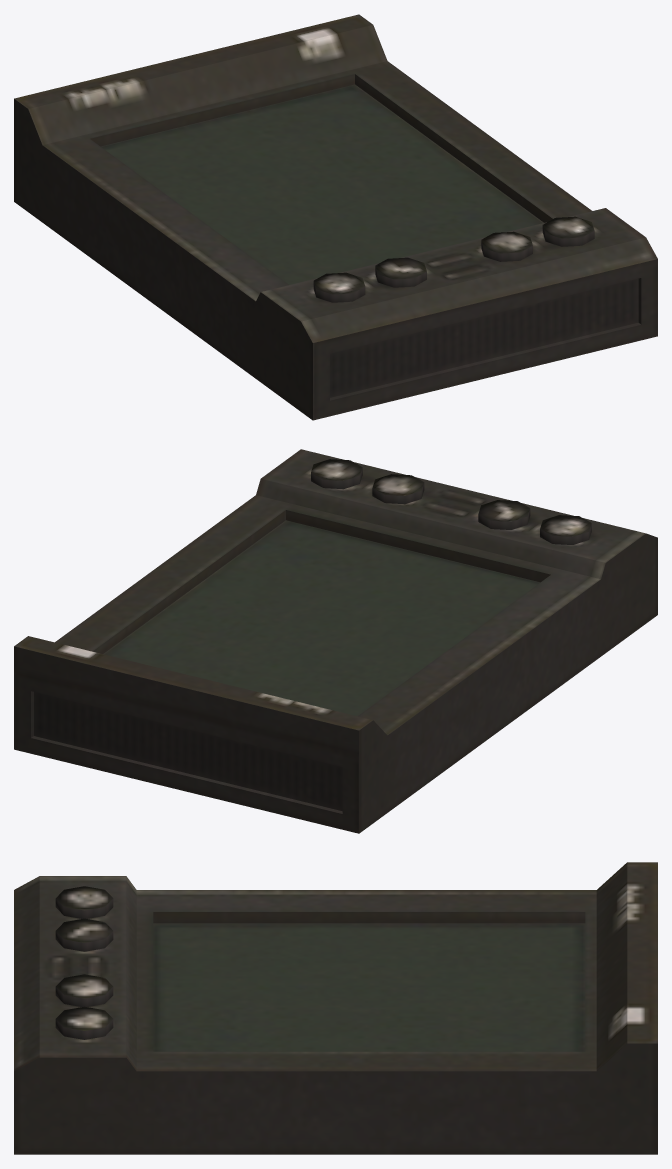
File: handheld_tablet_1.obj
The picture shows the model from 3 angles, top to bottom: view 1: azimuth 30°, elevation 25°; view 2: azimuth 150°, elevation 25°; view 3: azimuth 270°, elevation 25°; orthographic projection. The views are drawn at different scales.
Visible parts, largest first — view 1: handheld_tablet_1; view 2: handheld_tablet_1; view 3: handheld_tablet_1.
Boxes of the visible parts, box(x1,y1,x2,y2) form: handheld_tablet_1: box(14, 14, 657, 420); handheld_tablet_1: box(14, 449, 657, 833); handheld_tablet_1: box(14, 862, 657, 1154).
Size of the model in its own units: 0.14 by 0.04 by 0.21.
